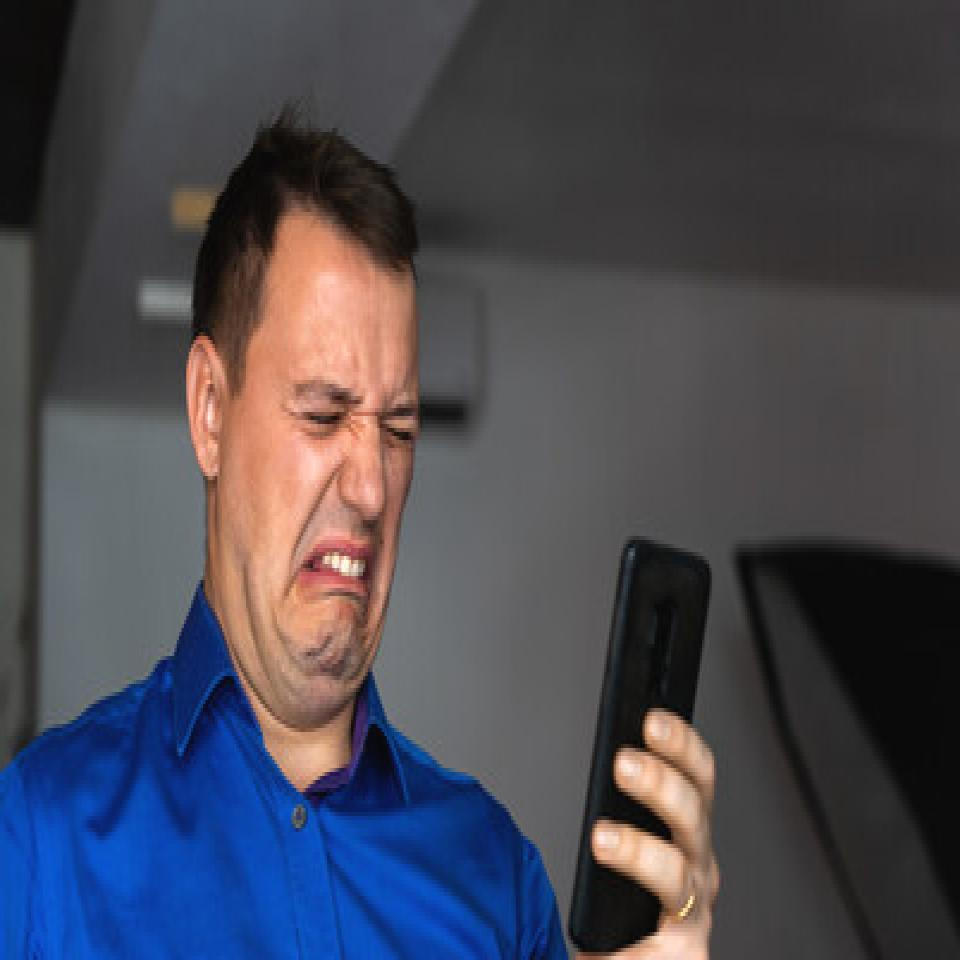Disgust: (213, 225, 424, 679)
